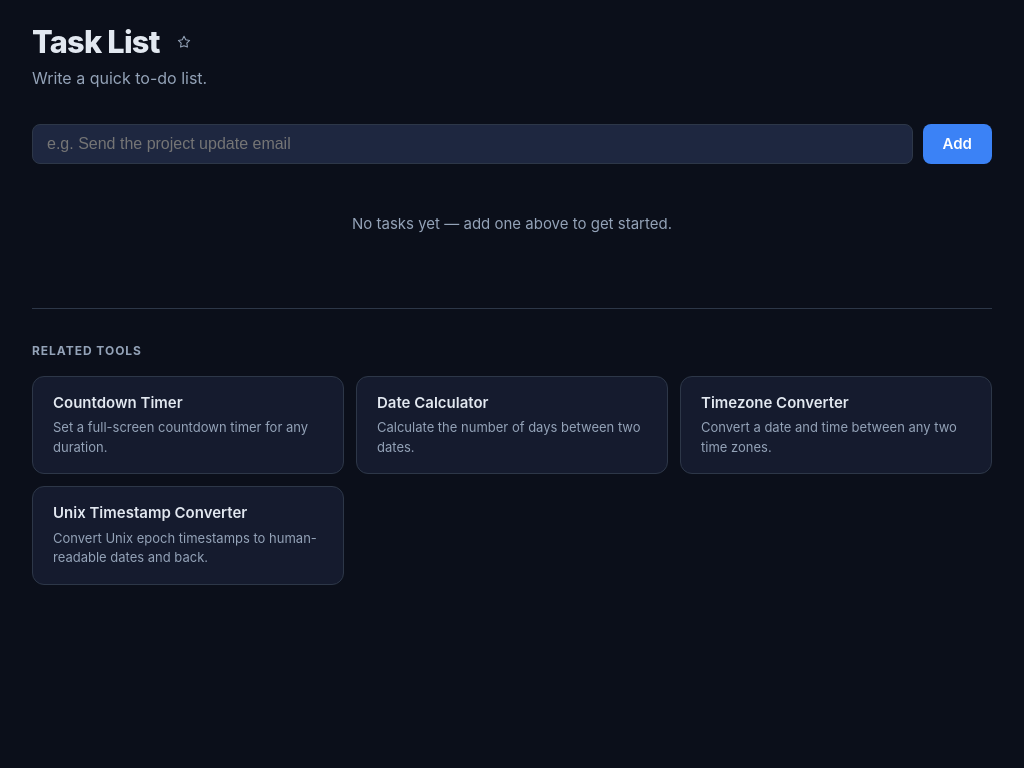
Test: TaskList › deletes a task
Type "Buy milk" into the field named "New task". click: (472, 144)
box: [32,124,913,164]
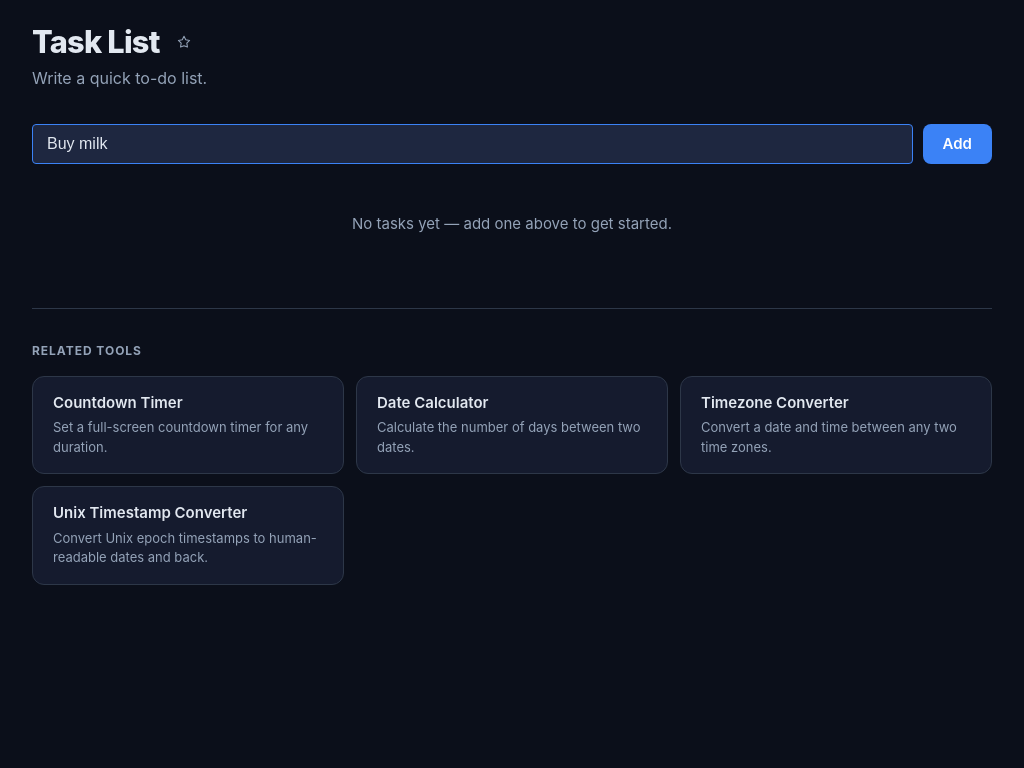
Click the button "Add". click: (957, 144)
box: [923,124,992,164]
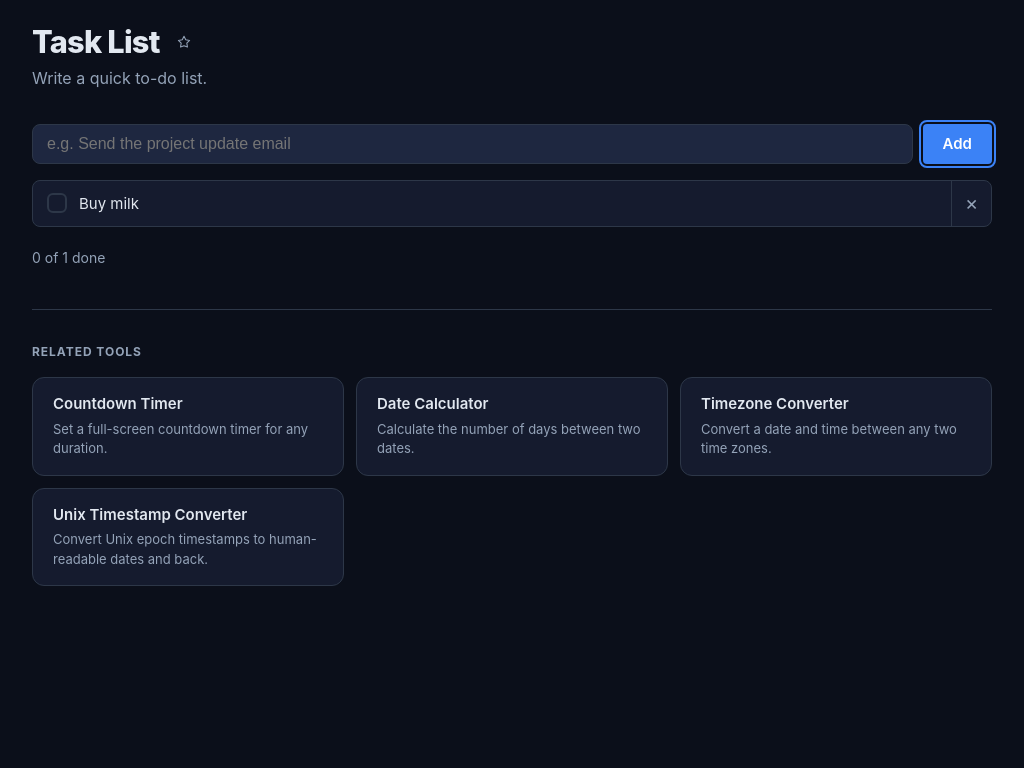
Click the button named "Delete task: Buy milk". click: (971, 203)
box: [951,181,991,226]
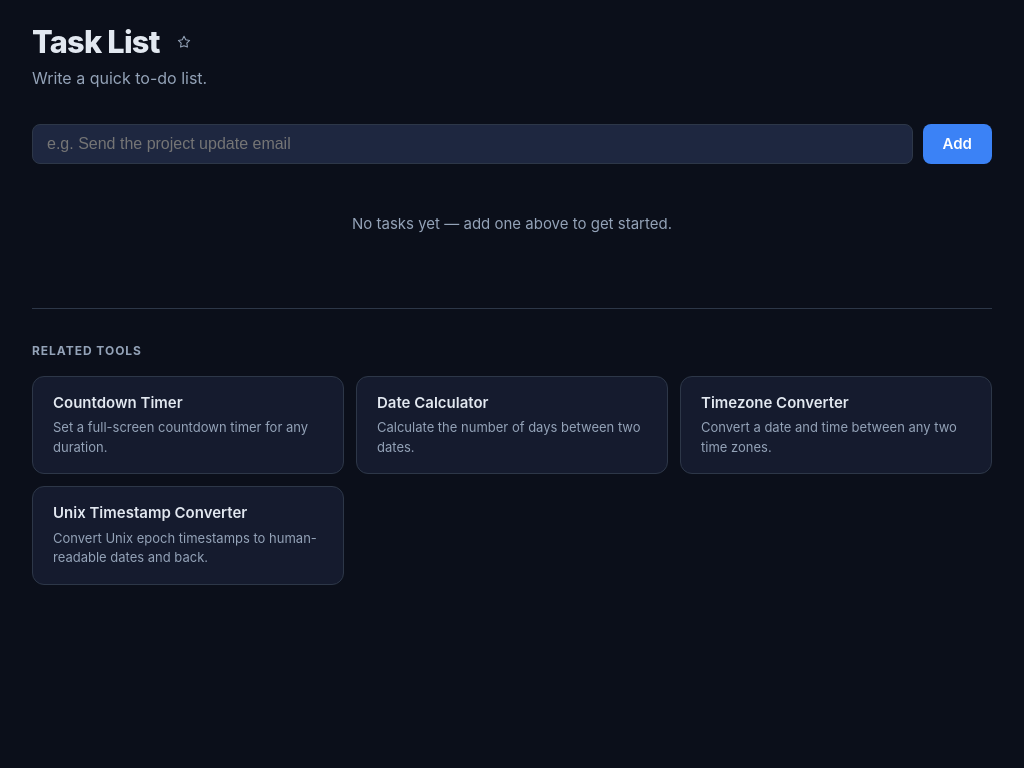
Result: the button "Buy milk" is gone
